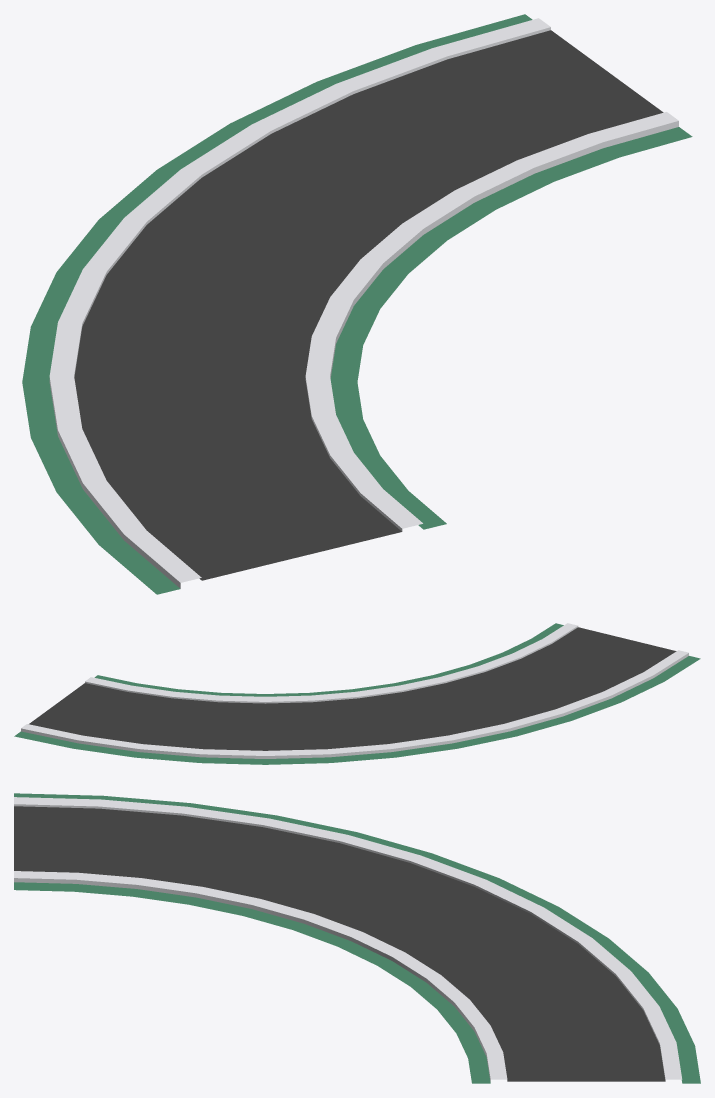
The model's file is roadCornerLarger.glb.
The picture shows the model from 3 angles, top to bottom: view 1: azimuth 30°, elevation 25°; view 2: azimuth 150°, elevation 25°; view 3: azimuth 270°, elevation 25°; orthographic projection. The views are drawn at different scales.
Parts seen in each view (by area): view 1: roadCornerLarger; view 2: roadCornerLarger; view 3: roadCornerLarger.
Part boxes in pixels (x1=…): roadCornerLarger: x1=22, y1=14, x2=692, y2=594; roadCornerLarger: x1=14, y1=623, x2=700, y2=764; roadCornerLarger: x1=14, y1=793, x2=700, y2=1083.
Bounding box in the file's own units: 3 × 0.02 × 3.
